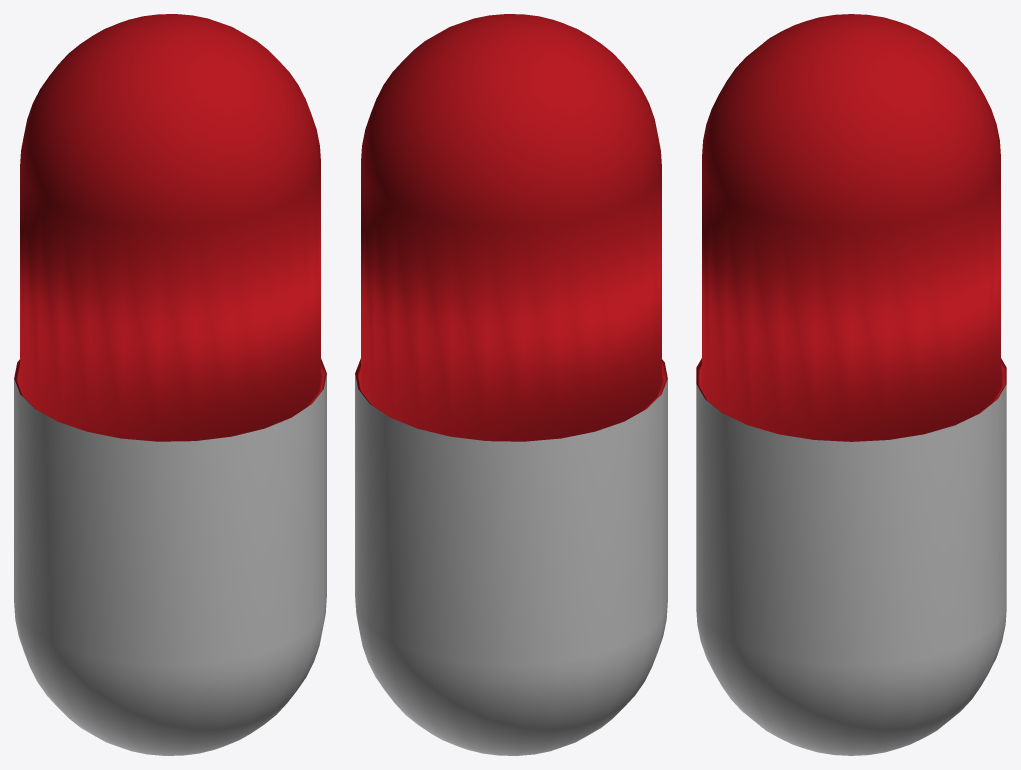
Rendered from PowerUp.fbx.
The picture shows the model from 3 angles, left to right: view 1: azimuth 30°, elevation 25°; view 2: azimuth 150°, elevation 25°; view 3: azimuth 270°, elevation 25°; orthographic projection.
Parts seen in each view (by area): view 1: pill; view 2: pill; view 3: pill.
Boxes of the visible parts, box(x1,y1,x2,y2) form: pill: box(14, 14, 326, 755); pill: box(355, 14, 667, 755); pill: box(696, 14, 1006, 755).
Size of the model in its own units: 9.45 by 23.79 by 9.38.
